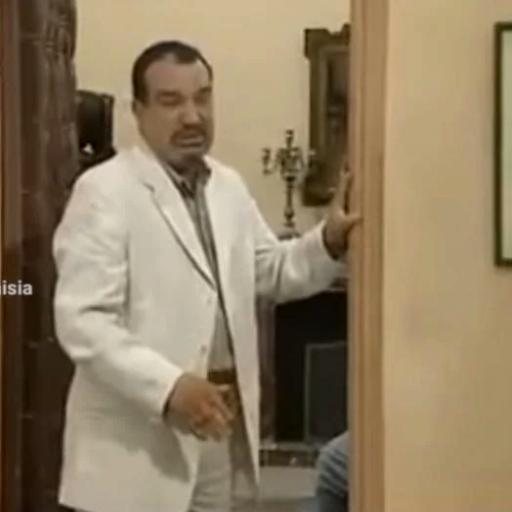slimane: (131, 39, 214, 174)
